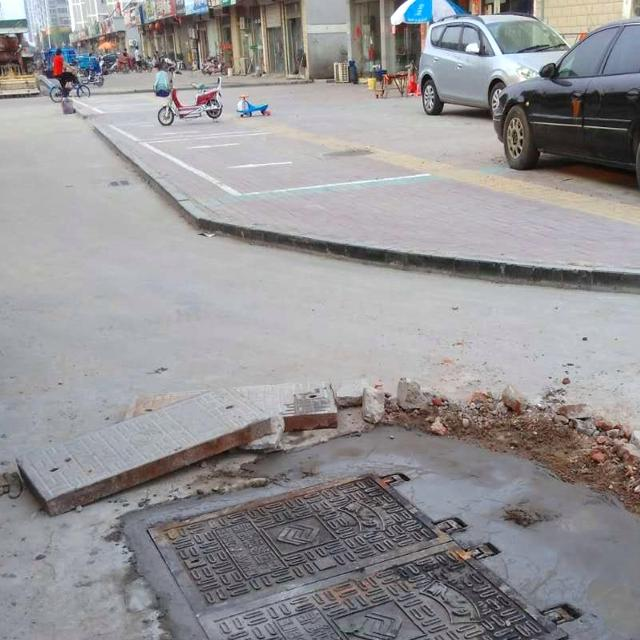good: (144, 465, 573, 640)
